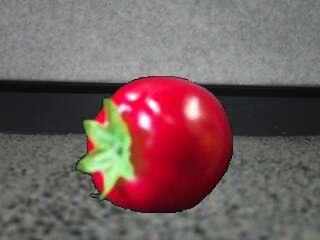Tomato: (76, 77, 234, 213)
